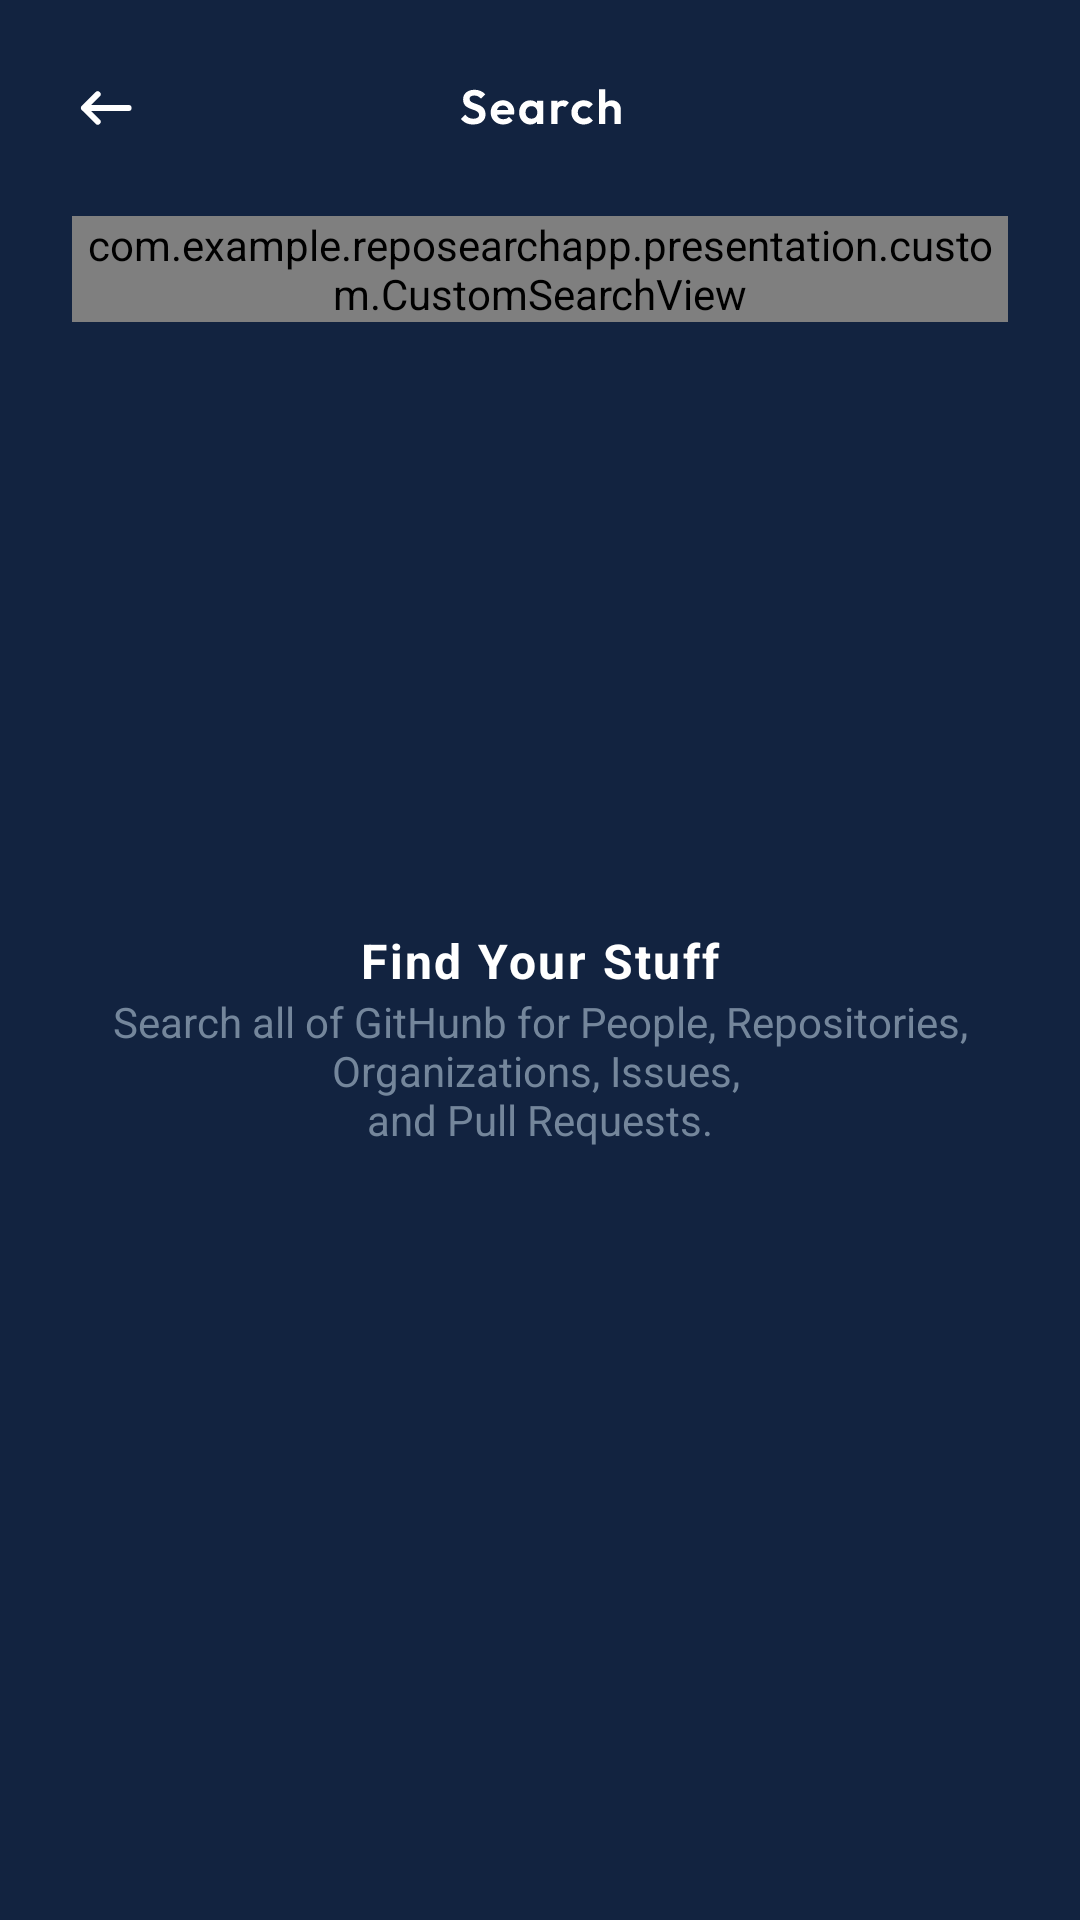

Icon bounding boxes for this 1080x1920 phone screenshot, format (x1, y1, x2, y2):
arrow left: (81, 91, 132, 125)
